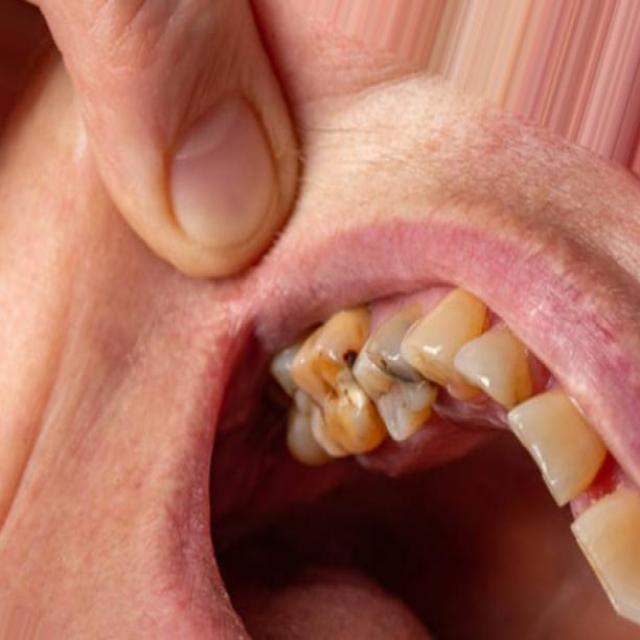caries: (331, 338, 369, 414), (374, 354, 420, 409)
